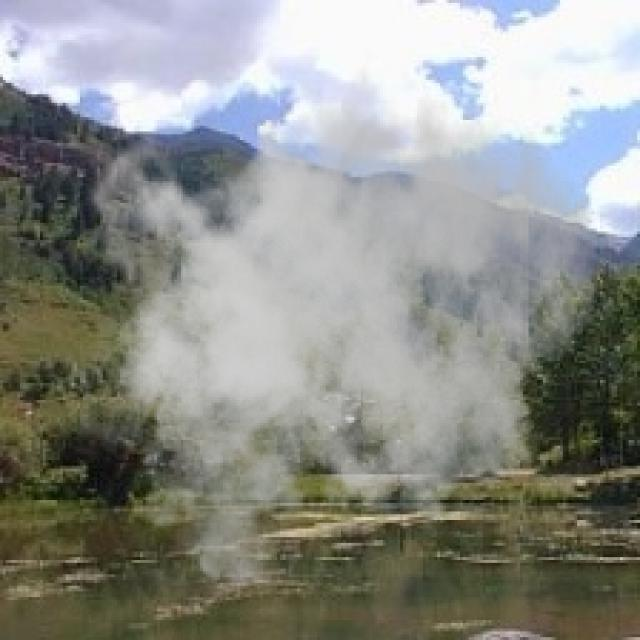smoke: (80, 43, 600, 586)
